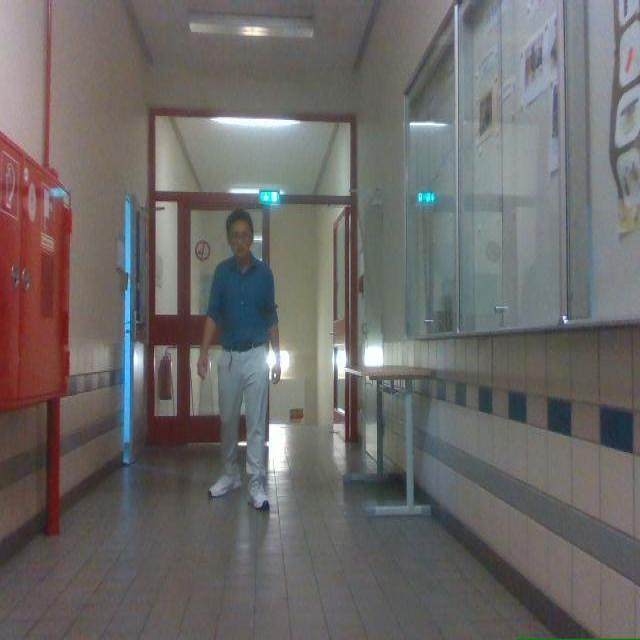humans: (198, 210, 280, 510)
objects: (360, 365, 432, 515)
